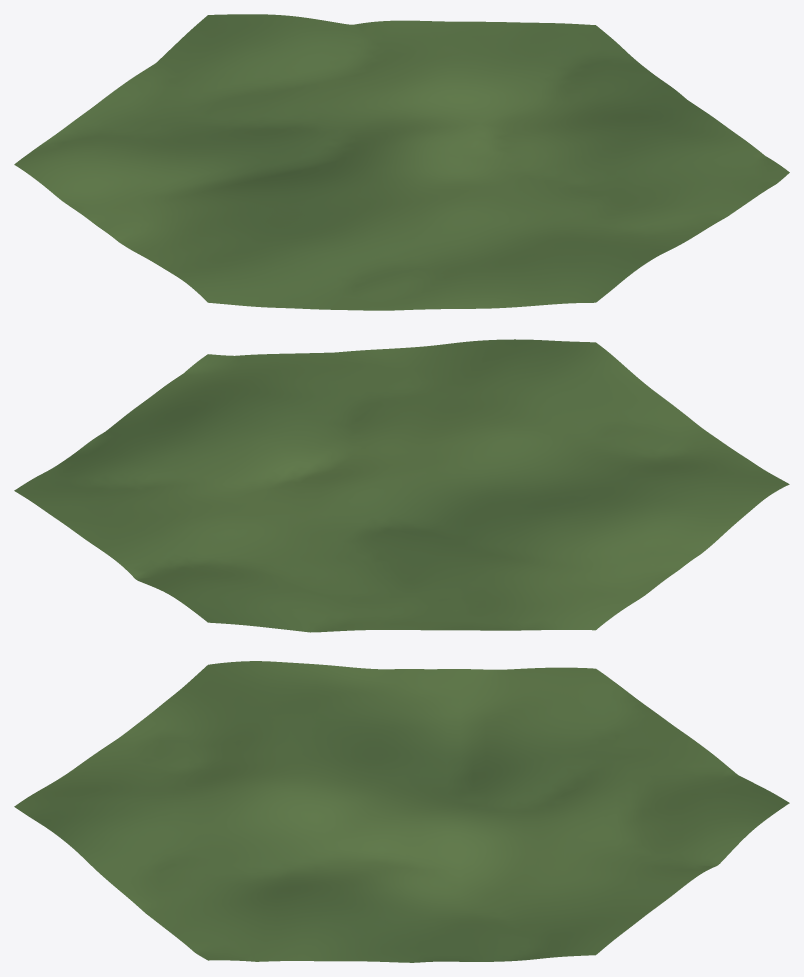
The picture shows the model from 3 angles, top to bottom: view 1: azimuth 30°, elevation 25°; view 2: azimuth 150°, elevation 25°; view 3: azimuth 270°, elevation 25°; orthographic projection.
Visible parts, largest first — view 1: JS_-1_14; view 2: JS_-1_14; view 3: JS_-1_14.
Boxes of the visible parts, x1,y1,x2,y2 form: JS_-1_14: [14, 14, 789, 310]; JS_-1_14: [14, 339, 789, 632]; JS_-1_14: [14, 661, 789, 962].
Bounding box in the file's own units: 4330 × 153 × 5000.
